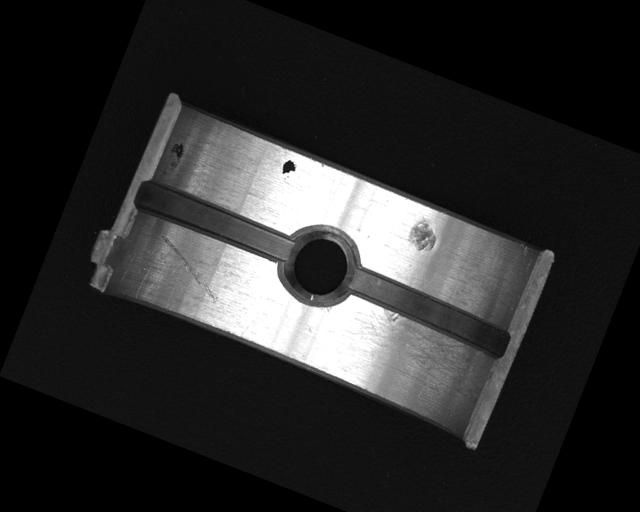blot: (164, 139, 188, 171), (278, 156, 299, 181)
bruise: (404, 216, 442, 255)
gap: (338, 262, 517, 363), (132, 176, 300, 269)
hole: (269, 214, 366, 316)
nick: (144, 233, 234, 306)
scratch: (316, 290, 491, 418)
